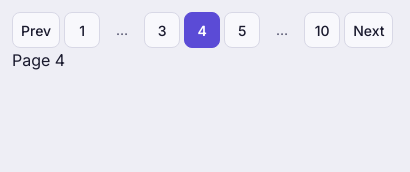
Scenario: Pagination › navigation › goes back to the previous page when Prev is clicked
The width and height of the screenshot is (410, 172).
Click the button with aria-label "Go to previous page": (36, 30) x1=12 y1=12 x2=60 y2=48
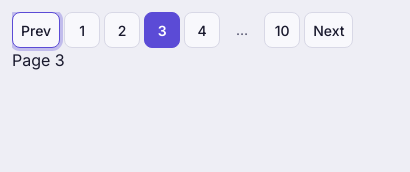
Expected: the text with test id "page-display" reads "Page 3", x1=12 y1=50 x2=65 y2=70
